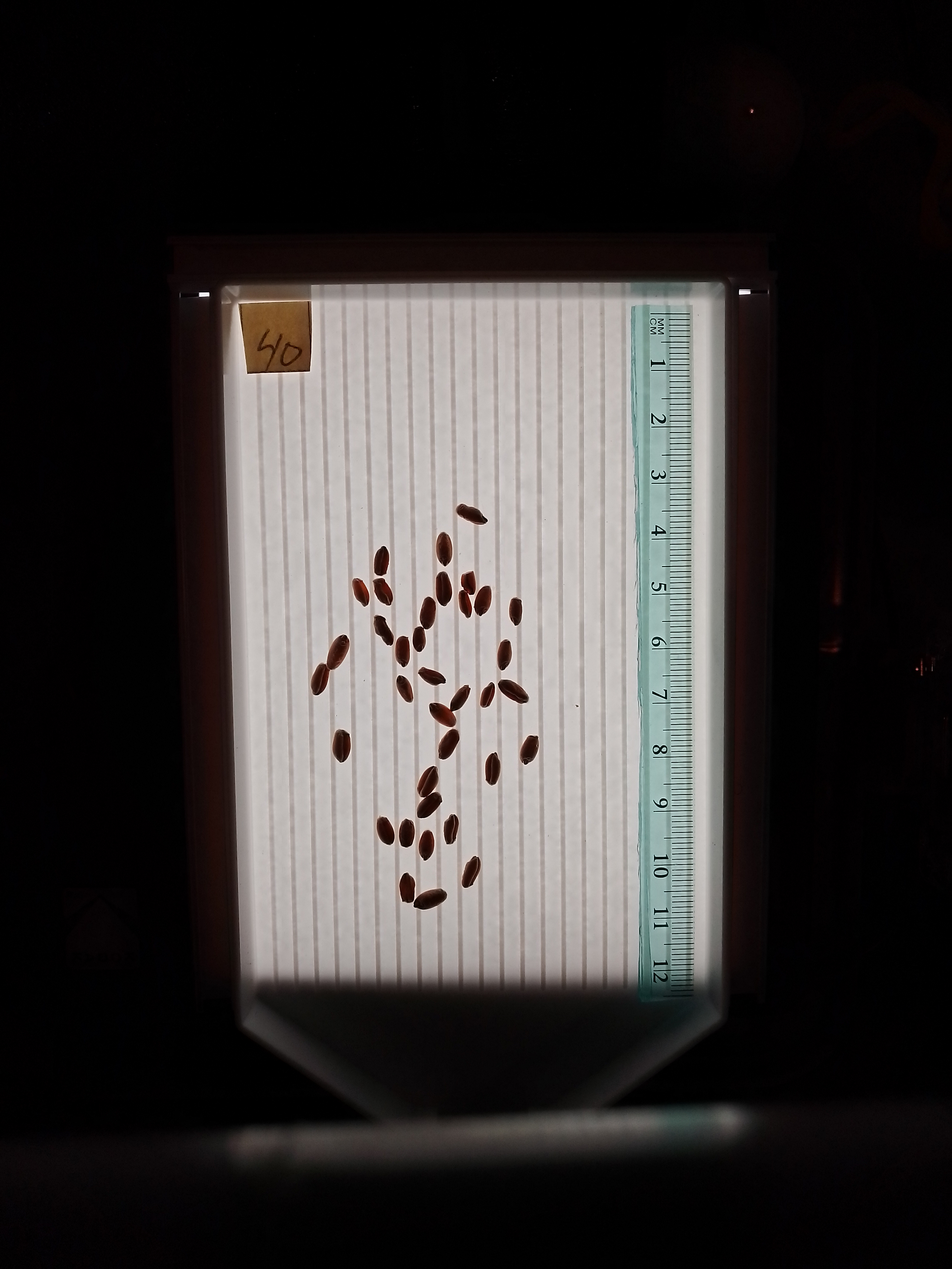seed mask: (498, 678, 528, 704), (327, 635, 349, 670), (414, 888, 446, 911), (417, 766, 438, 798), (462, 854, 481, 888), (457, 504, 487, 525), (430, 703, 455, 728), (332, 730, 351, 762), (417, 793, 441, 818), (373, 615, 393, 645), (520, 735, 539, 764), (436, 533, 453, 565), (311, 664, 329, 694), (439, 732, 459, 759), (374, 578, 393, 605), (485, 754, 501, 785), (436, 574, 452, 605), (399, 874, 416, 903), (398, 819, 415, 847), (377, 817, 394, 845), (451, 685, 469, 711), (420, 597, 435, 628), (475, 586, 491, 615), (373, 547, 389, 576), (396, 676, 413, 702), (419, 668, 445, 685), (444, 815, 459, 844), (419, 831, 434, 860), (395, 637, 410, 666), (353, 579, 369, 605), (508, 597, 522, 625), (498, 641, 512, 669), (480, 685, 495, 707), (459, 591, 471, 617), (462, 572, 475, 595), (414, 627, 425, 652)
